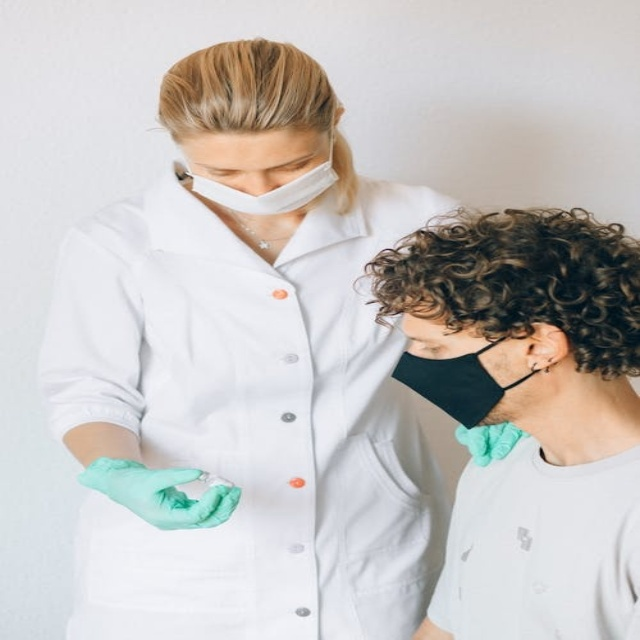Guantes: (78, 458, 241, 531), (455, 421, 526, 467)
Mascara: (176, 126, 338, 215), (390, 335, 538, 429)
Sin_gafas: (182, 147, 325, 182), (401, 322, 486, 355)
